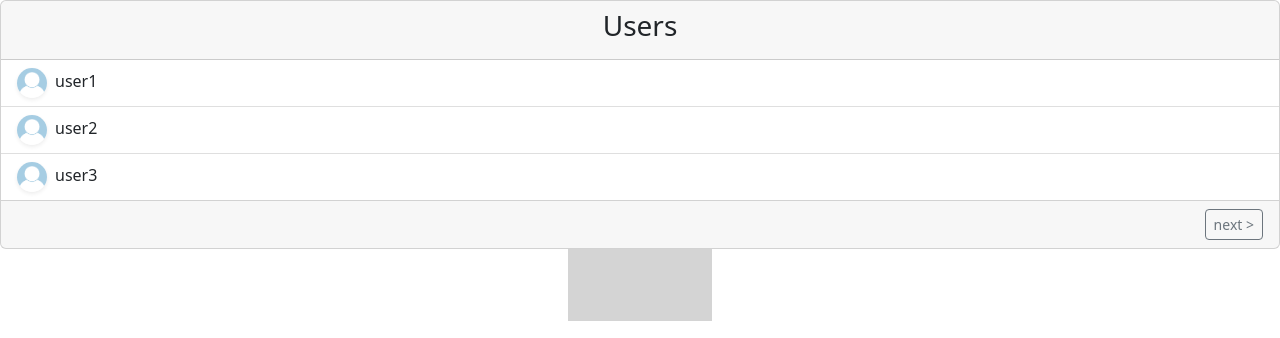
User List › Interactions › displays next page after clicking next
This screenshot has width=1280, height=338.
Expected: the list item "user1" is shown, x1=1 y1=60 x2=1279 y2=107
Click the button "next >": (1234, 224) x1=1205 y1=209 x2=1263 y2=240
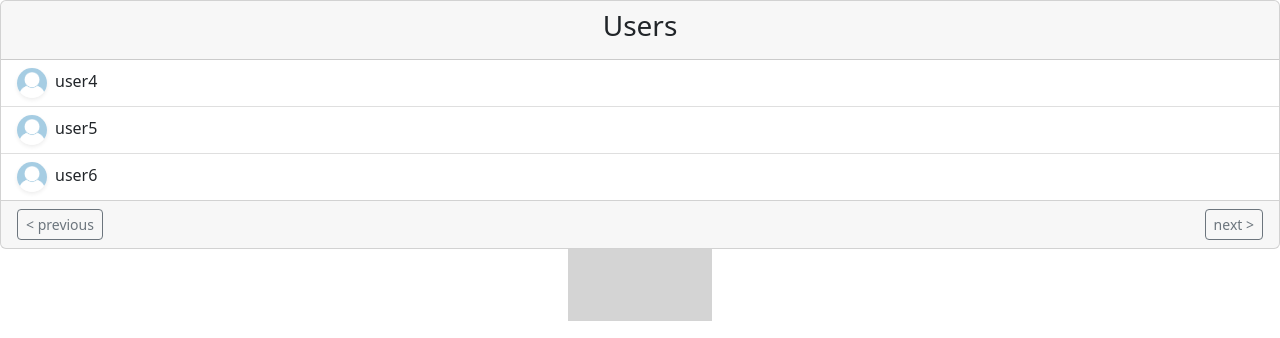
Expected: the list item "user4" is shown, x1=1 y1=60 x2=1279 y2=107
